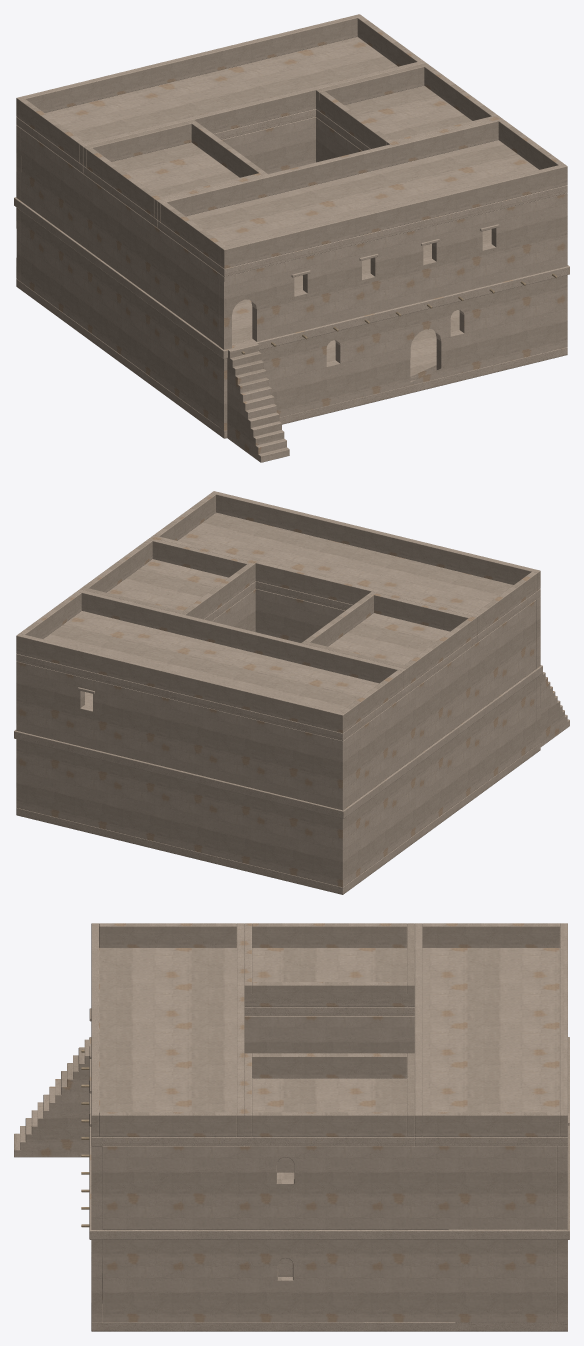
File: riad_12.glb
3 renders of one model, top to bottom at view 1: azimuth 30°, elevation 25°; view 2: azimuth 150°, elevation 25°; view 3: azimuth 270°, elevation 25°, orthographic. The views are drawn at different scales.
Visible parts, largest first — view 1: riad; view 2: riad; view 3: riad.
Boxes of the visible parts, x1,y1,x2,y2 form: riad: (14,14,569,462); riad: (14,491,569,894); riad: (14,923,569,1331).
Size of the model in its own units: 17.97 by 9.37 by 21.78.
3 materials, 3 textured.
